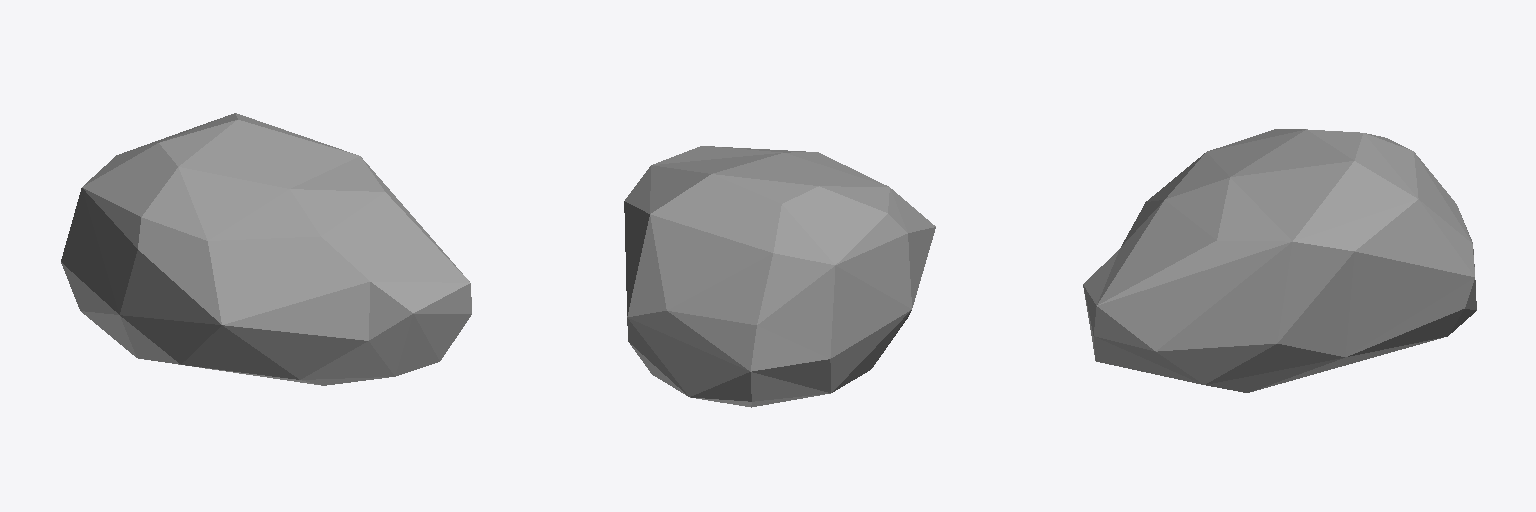
The model's file is stone4.obj.
The picture shows the model from 3 angles: view 1: azimuth 30°, elevation 25°; view 2: azimuth 150°, elevation 25°; view 3: azimuth 270°, elevation 25°; orthographic projection.
Parts seen in each view (by area): view 1: texturedMesh.part.section.001; view 2: texturedMesh.part.section.001; view 3: texturedMesh.part.section.001.
Part boxes in pixels (left/top/right/bottom): texturedMesh.part.section.001: left=61, top=113, right=471, bottom=385; texturedMesh.part.section.001: left=624, top=146, right=935, bottom=407; texturedMesh.part.section.001: left=1083, top=129, right=1476, bottom=392.
Bounding box in the file's own units: 0.906 × 0.6452 × 1.1.